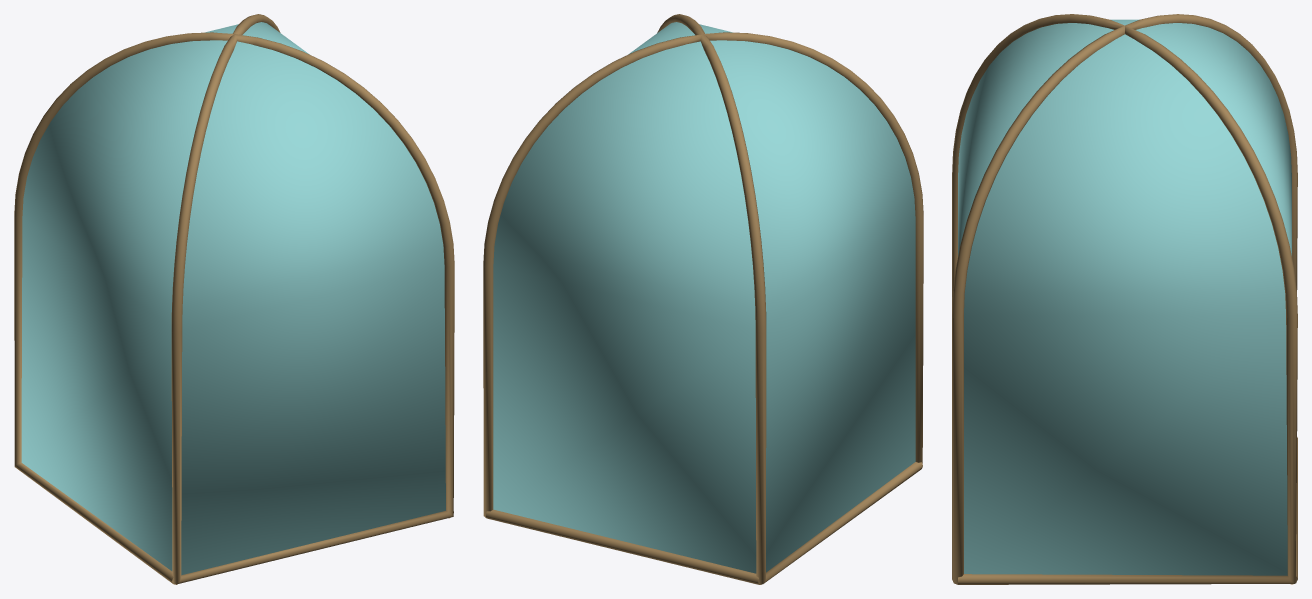
The model's file is display_octoglass_a.fbx.
3 renders of one model, left to right at view 1: azimuth 30°, elevation 25°; view 2: azimuth 150°, elevation 25°; view 3: azimuth 270°, elevation 25°, orthographic. The views are drawn at different scales.
Visible parts, largest first — view 1: a_display_octo_glass, a_display_octo_trim; view 2: a_display_octo_glass, a_display_octo_trim; view 3: a_display_octo_glass, a_display_octo_trim.
Part boxes in pixels (x1,y1,x2,y2): a_display_octo_glass: (21,22,445,575); a_display_octo_trim: (14,14,454,584); a_display_octo_glass: (493,22,915,573); a_display_octo_trim: (483,14,923,584); a_display_octo_glass: (958,19,1291,575); a_display_octo_trim: (952,14,1297,584).
Size of the model in its own units: 117 by 183 by 117.
